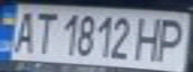1: (57, 10, 81, 56), (93, 12, 115, 59)
2: (109, 12, 136, 61)
8: (75, 11, 96, 57)
A: (9, 8, 39, 54)
H: (130, 14, 169, 62)
P: (151, 15, 190, 63)
T: (30, 8, 60, 55)
